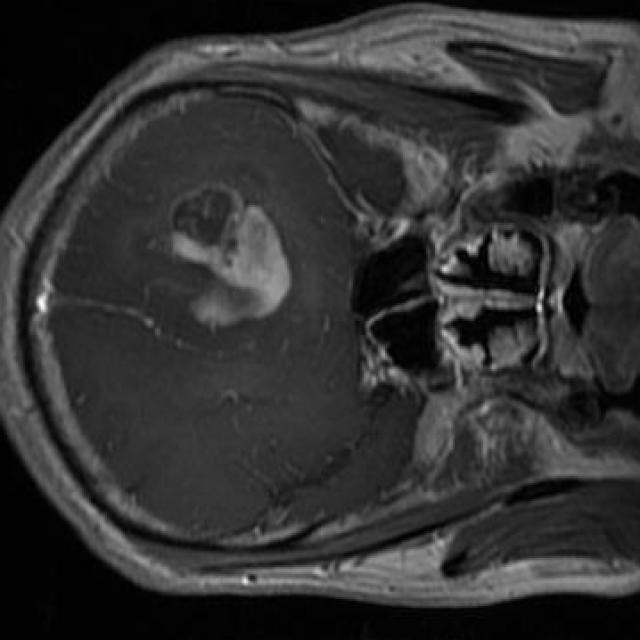glioma: (166, 189, 292, 328)
